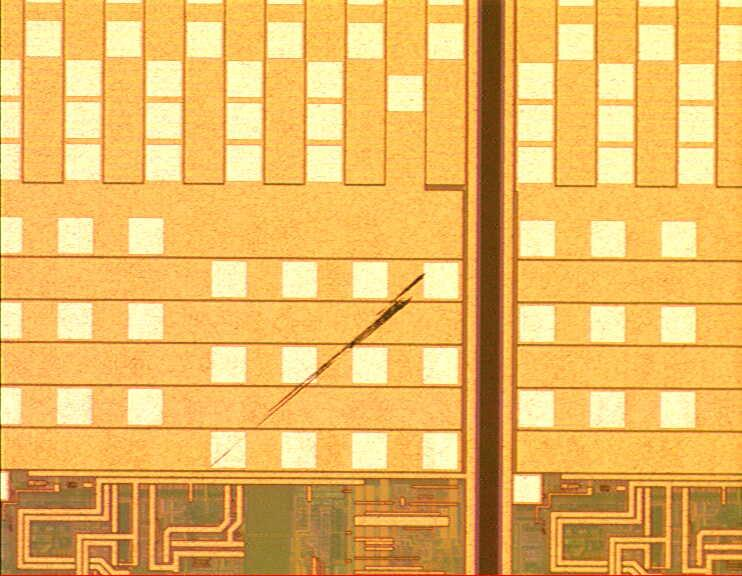SCRATCH: (167, 262, 444, 504)
